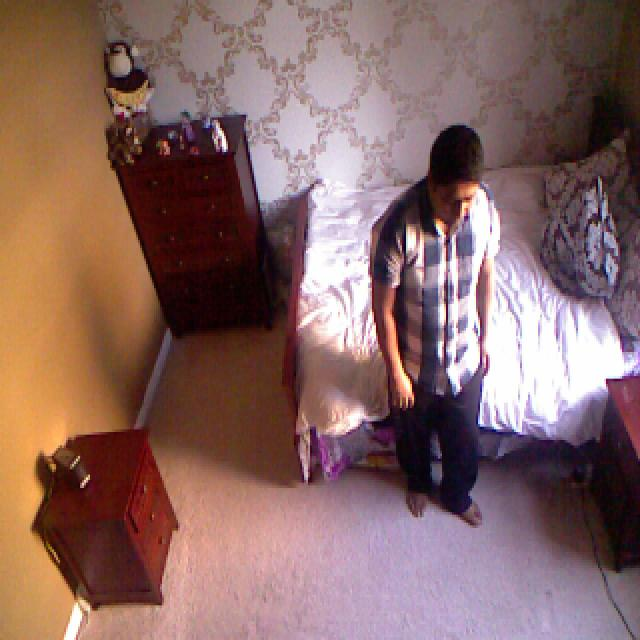standing: (371, 126, 491, 528)
